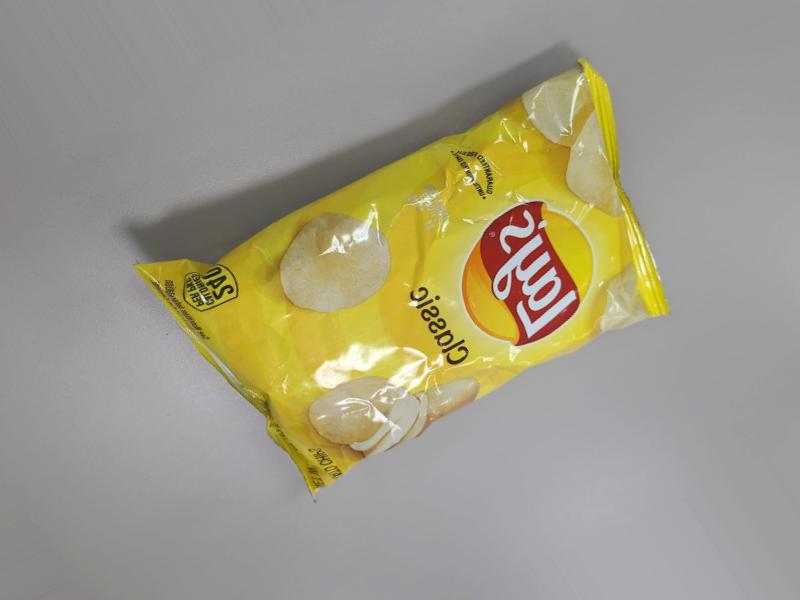lays: (202, 21, 679, 523)
